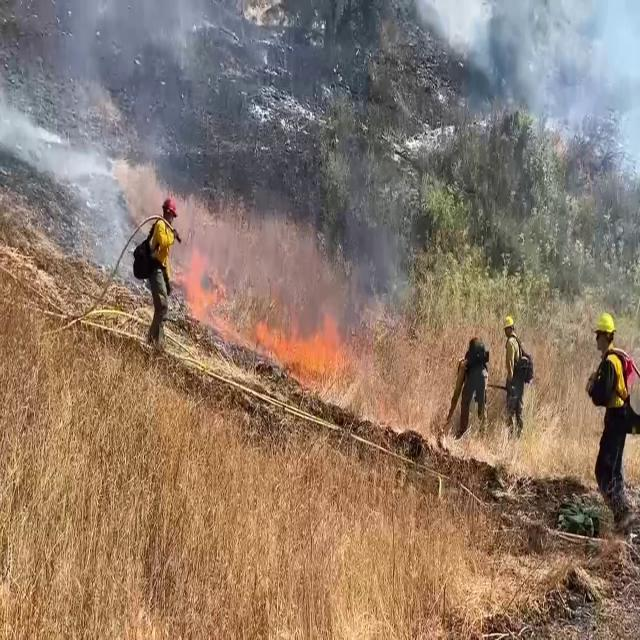Fire: (264, 304, 355, 397), (181, 238, 234, 341)
Smoke: (0, 0, 220, 273), (460, 1, 640, 186)
